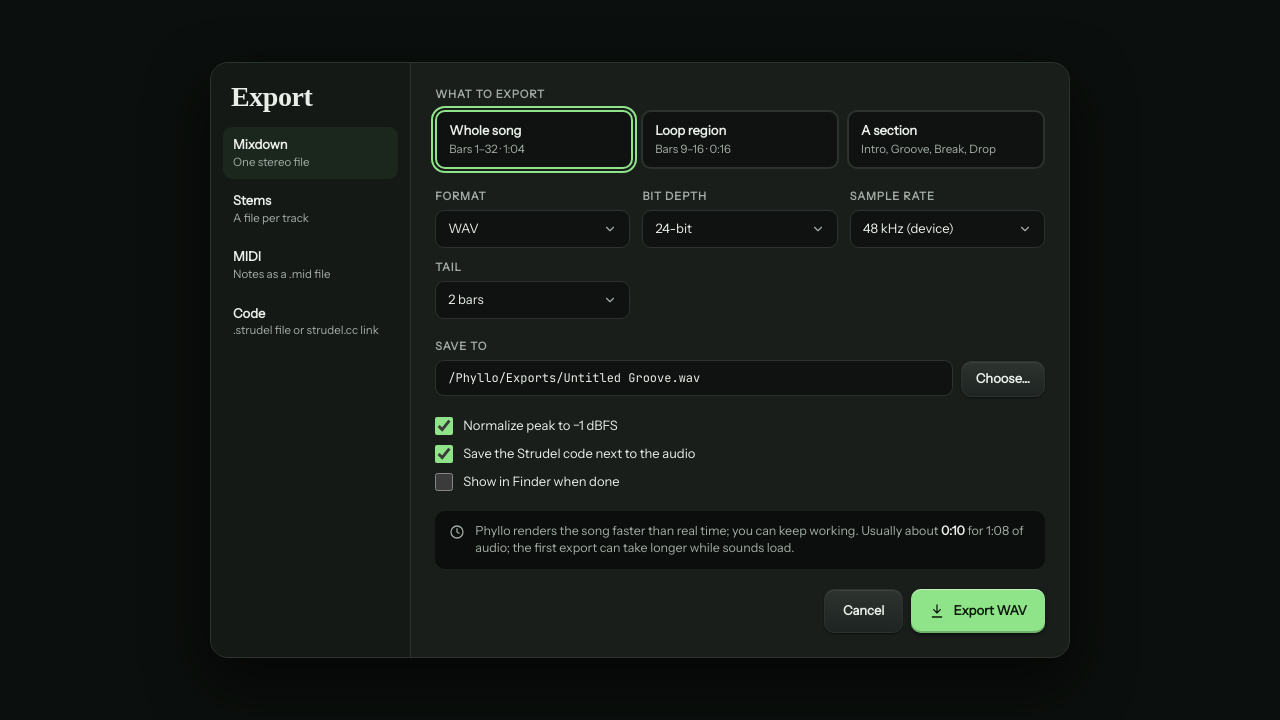
ExportDialog › should keep a path the user chose as it is
The width and height of the screenshot is (1280, 720).
Click the button with aria-label "Choose a file…" at point(1003, 379), box [961,361,1045,397]
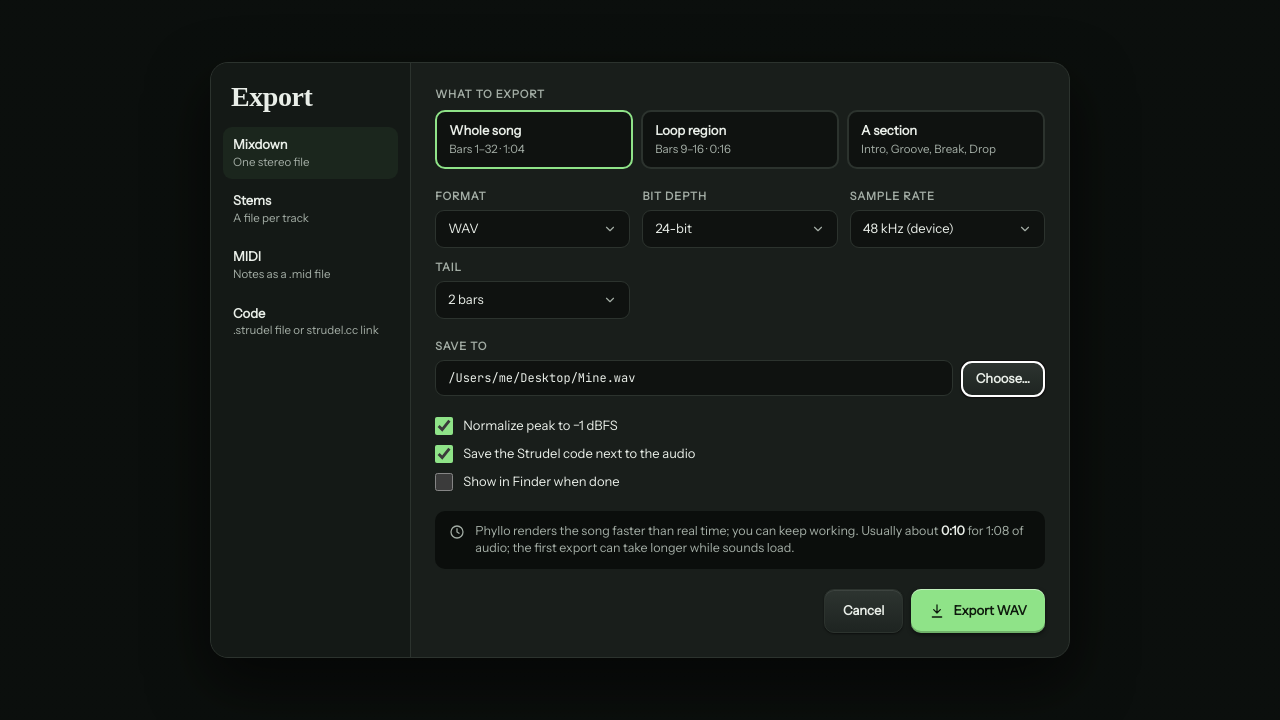
Click the button "Export WAV" at point(978, 611), box [912,589,1045,633]
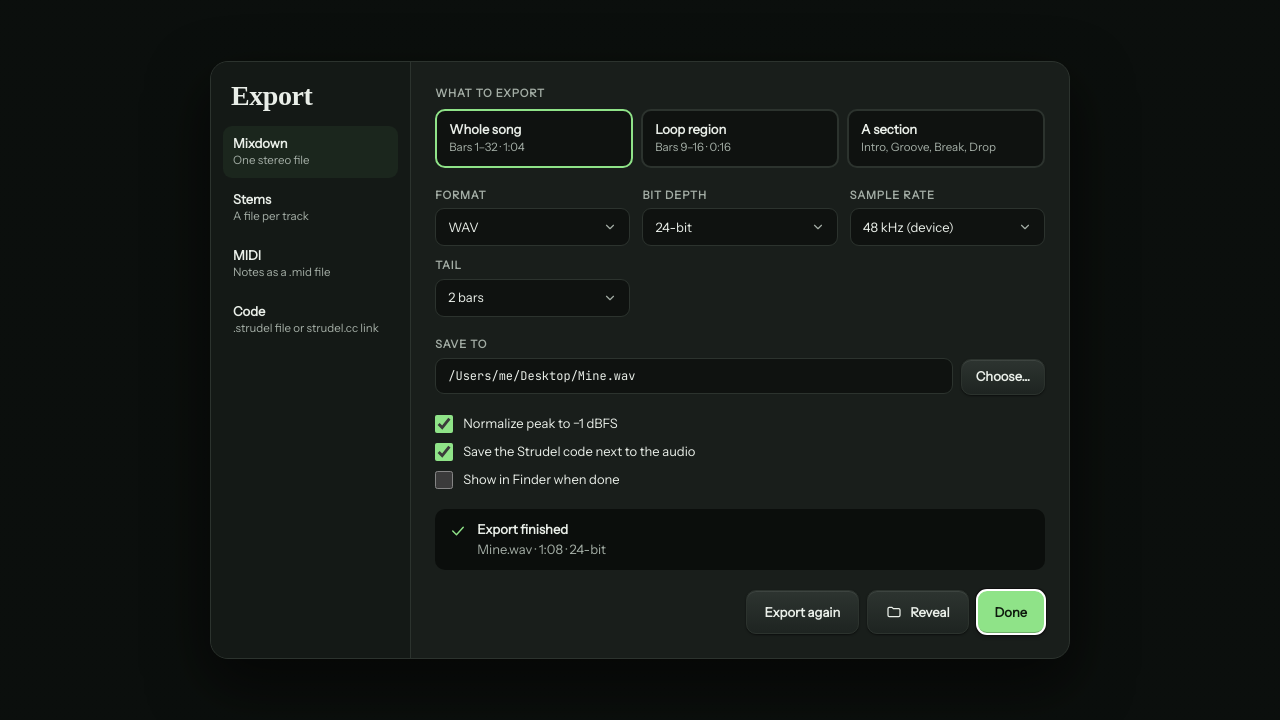
expect the message "Export finished Mine.wav · 1:08 · 24-bit" is shown: met, box [435,509,1045,570]
